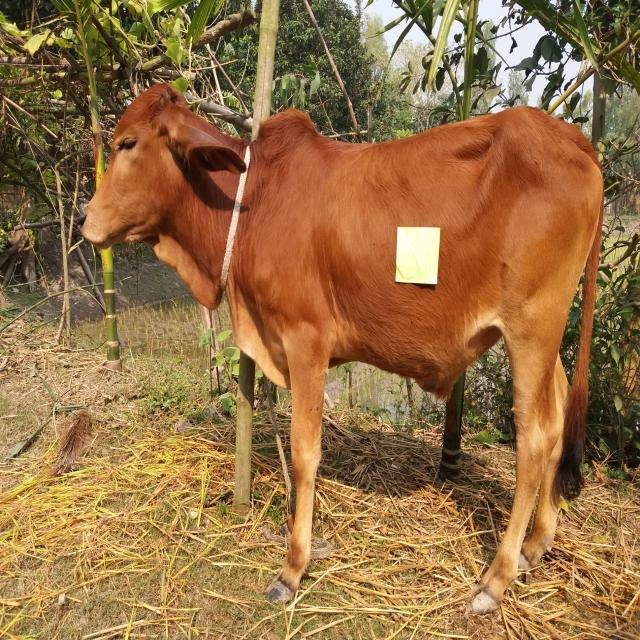badan_sapi: (276, 118, 574, 381)
sapi: (64, 76, 606, 614)
